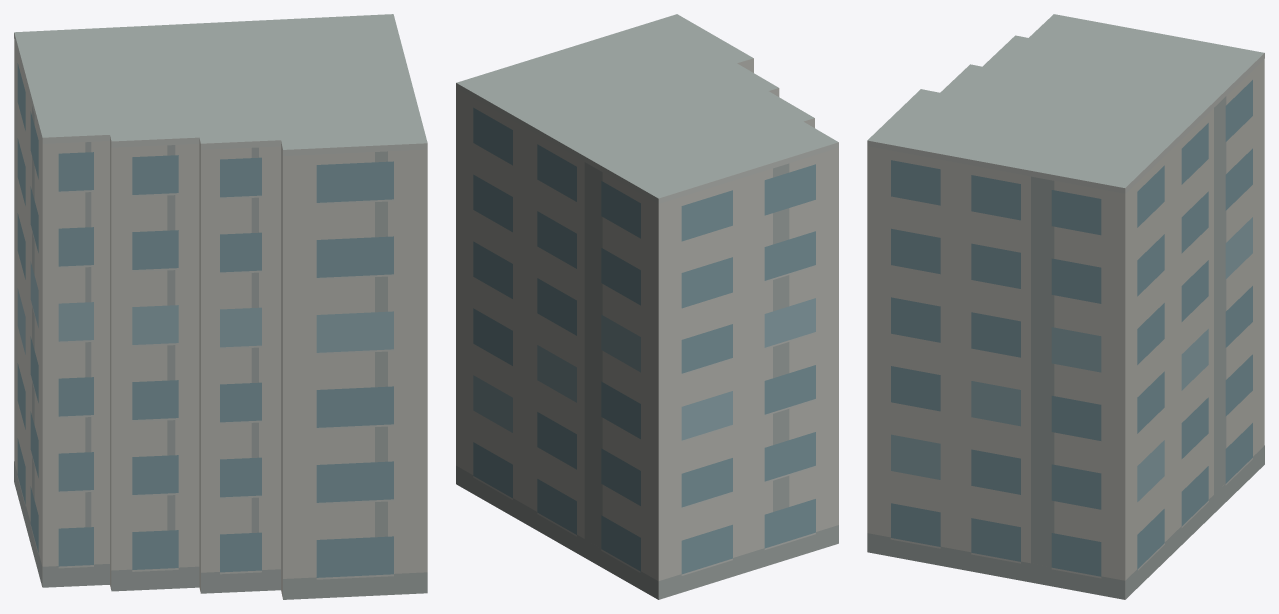
The model's file is survey-upis-32884800.glb.
3 renders of one model, left to right at view 1: azimuth 30°, elevation 25°; view 2: azimuth 150°, elevation 25°; view 3: azimuth 270°, elevation 25°, orthographic. The views are drawn at different scales.
Parts seen in each view (by area): view 1: survey-upis-32884800.tmp; view 2: survey-upis-32884800.tmp; view 3: survey-upis-32884800.tmp.
Boxes of the visible parts, bbox=[...] form: survey-upis-32884800.tmp: bbox=[14, 14, 427, 599]; survey-upis-32884800.tmp: bbox=[456, 14, 838, 599]; survey-upis-32884800.tmp: bbox=[867, 14, 1264, 599].
Bounding box in the file's own units: 15.71 × 17.3 × 15.15.
